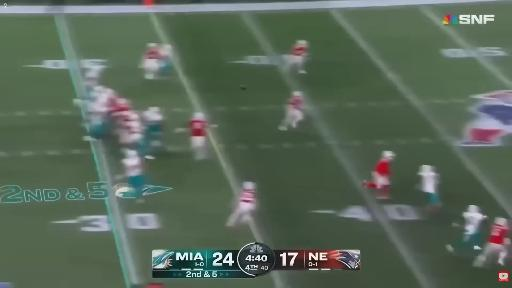Helmet: (420, 165, 434, 173), (125, 150, 138, 158), (162, 45, 172, 55), (128, 112, 139, 121), (495, 218, 507, 226), (243, 182, 255, 190), (382, 151, 394, 159), (193, 112, 205, 120), (468, 205, 479, 213), (296, 40, 307, 46), (148, 107, 160, 112), (293, 91, 302, 97), (147, 43, 157, 47)
Jersey: (463, 212, 485, 234), (123, 157, 143, 176), (420, 172, 438, 193), (488, 225, 507, 244), (190, 120, 206, 137), (375, 159, 390, 177), (143, 111, 163, 124), (126, 121, 143, 133), (288, 96, 302, 110), (240, 190, 255, 203), (145, 48, 160, 59), (292, 45, 307, 56)
Player: (447, 205, 486, 252), (474, 218, 509, 267), (363, 151, 394, 199), (226, 182, 255, 226), (122, 150, 144, 200), (143, 107, 163, 159), (125, 112, 147, 157), (418, 166, 441, 209), (279, 91, 303, 130), (189, 112, 207, 160), (142, 43, 161, 79), (288, 40, 308, 73), (159, 44, 174, 77)
